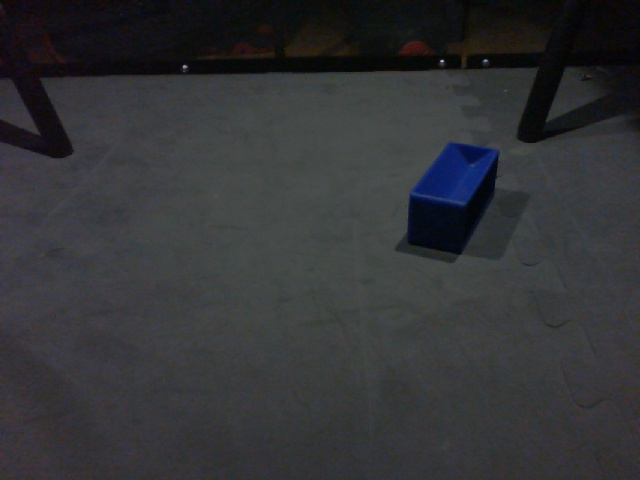BlueSample: (406, 140, 502, 264)
